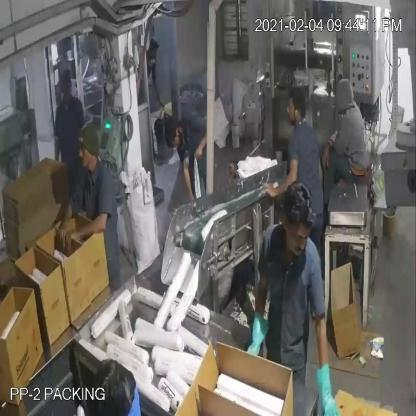glove: (240, 304, 280, 370), (311, 350, 338, 416)
no_glove: (70, 210, 116, 251), (265, 154, 299, 200), (58, 187, 76, 249), (194, 138, 212, 172), (181, 150, 192, 205)
